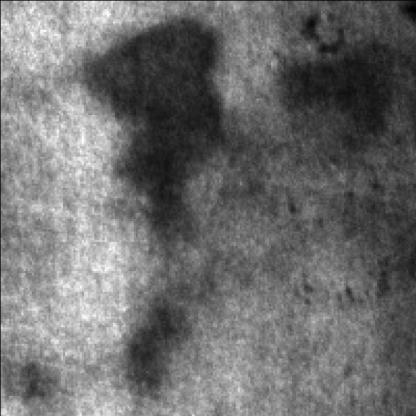patches: (81, 27, 221, 241), (279, 46, 393, 160), (127, 304, 179, 395)
